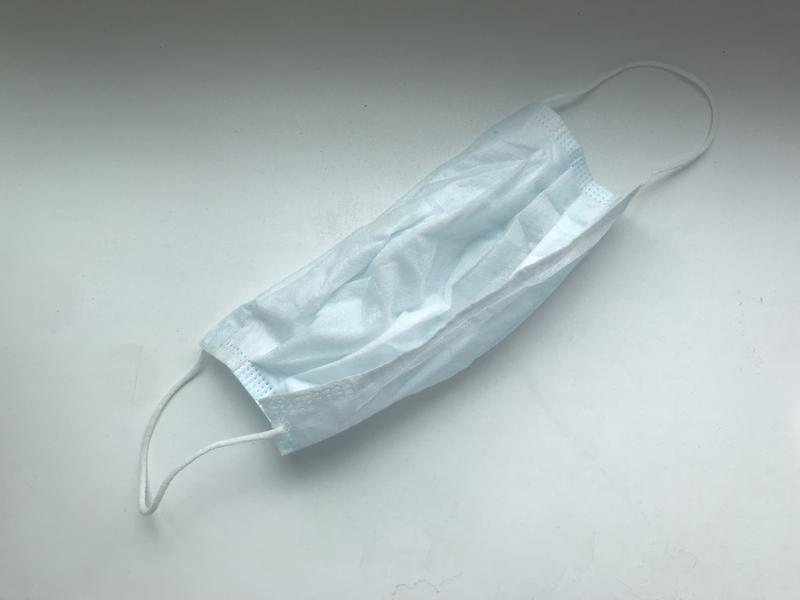medical_mask: (139, 59, 714, 514)
